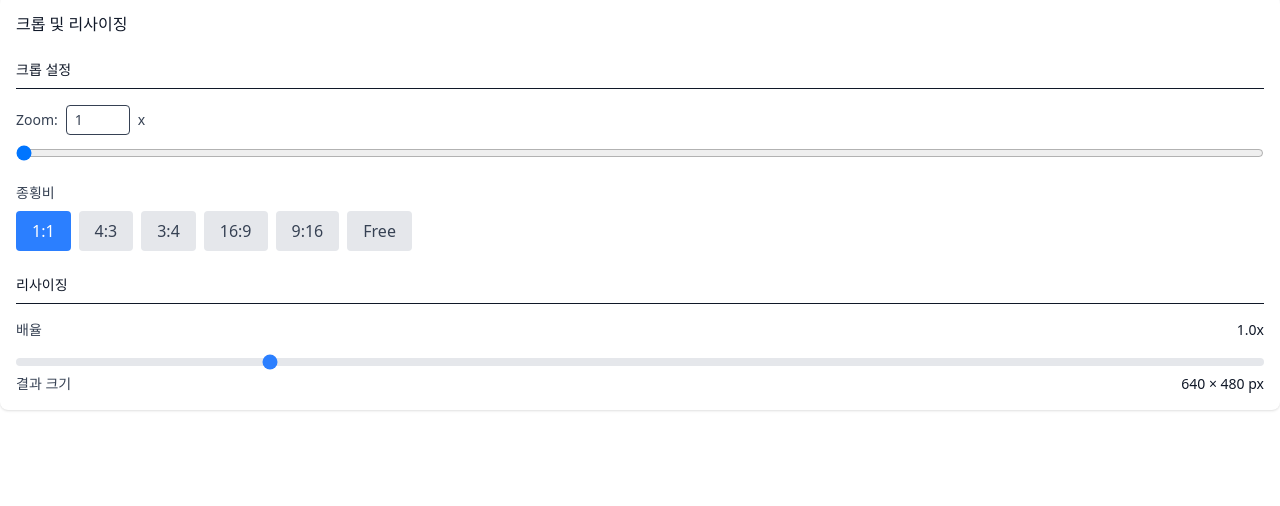
it: CropResizePanel › shows free mode controls when Free button is clicked
The image size is (1280, 506).
Click the button "Free". click: (380, 231)
box: [347,211,412,251]
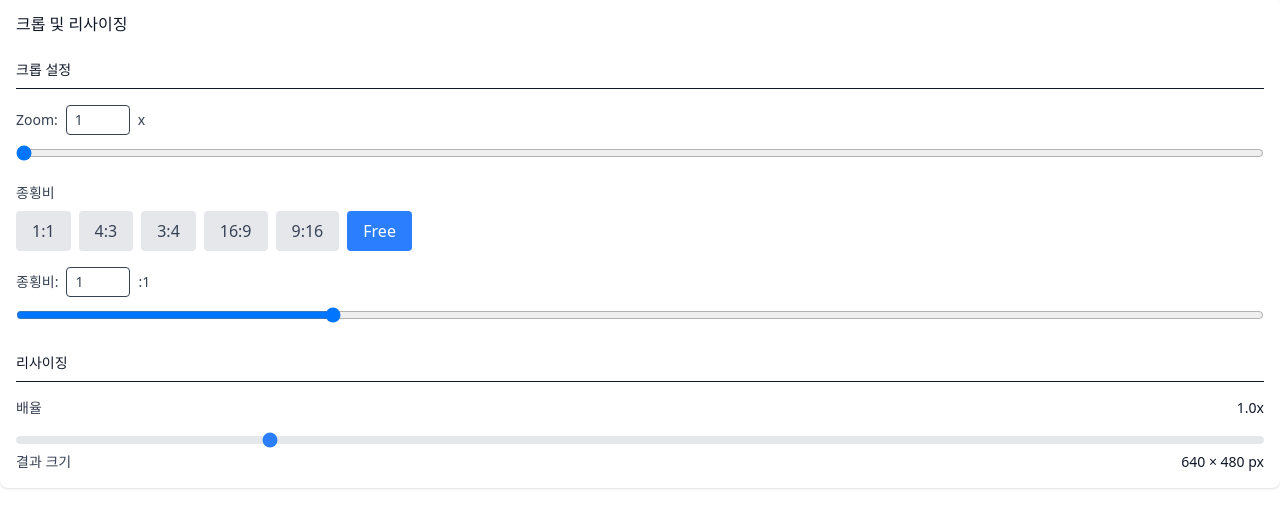
Result: the number of sliders is 3 at [16,145,1264,161]; [16,307,1264,323]; [16,436,1264,444]
